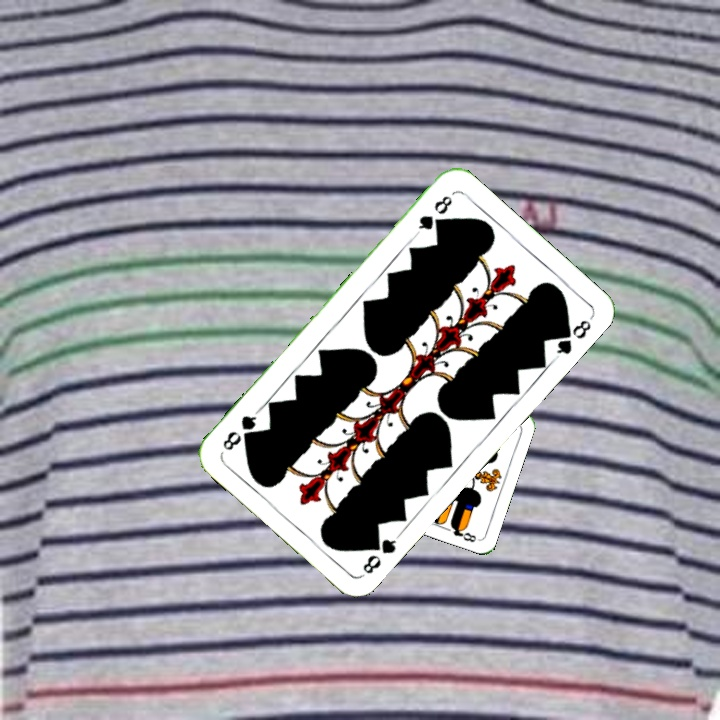G8: (358, 530, 403, 579), (412, 191, 456, 238)
